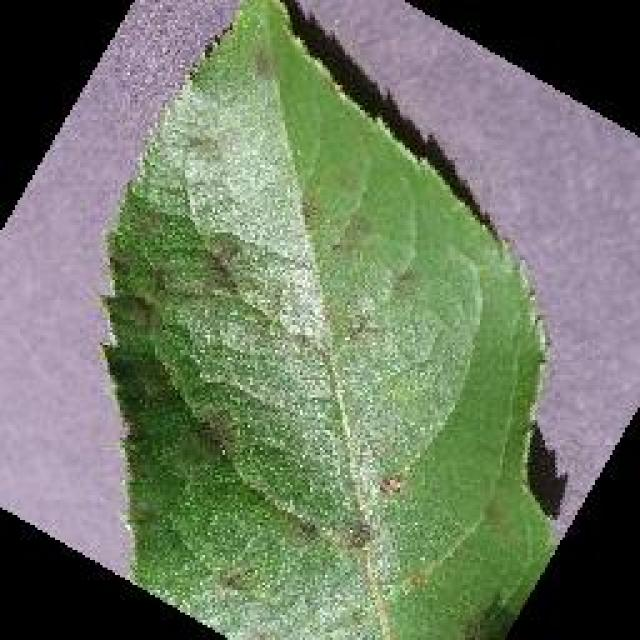apple scab disease: (95, 0, 567, 638)
